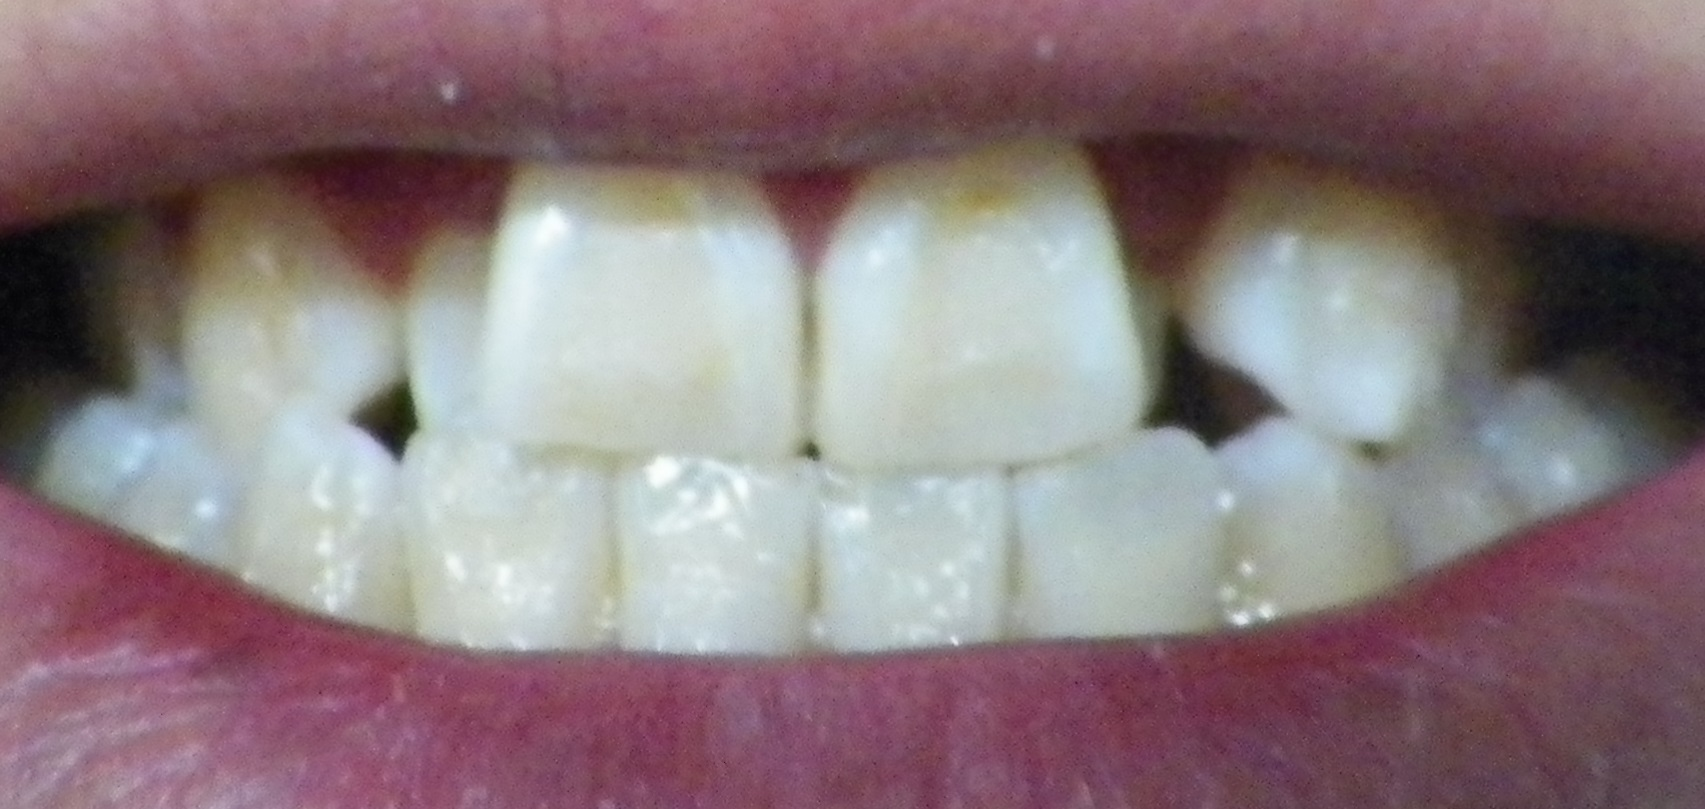boca: (47, 152, 1687, 655)
